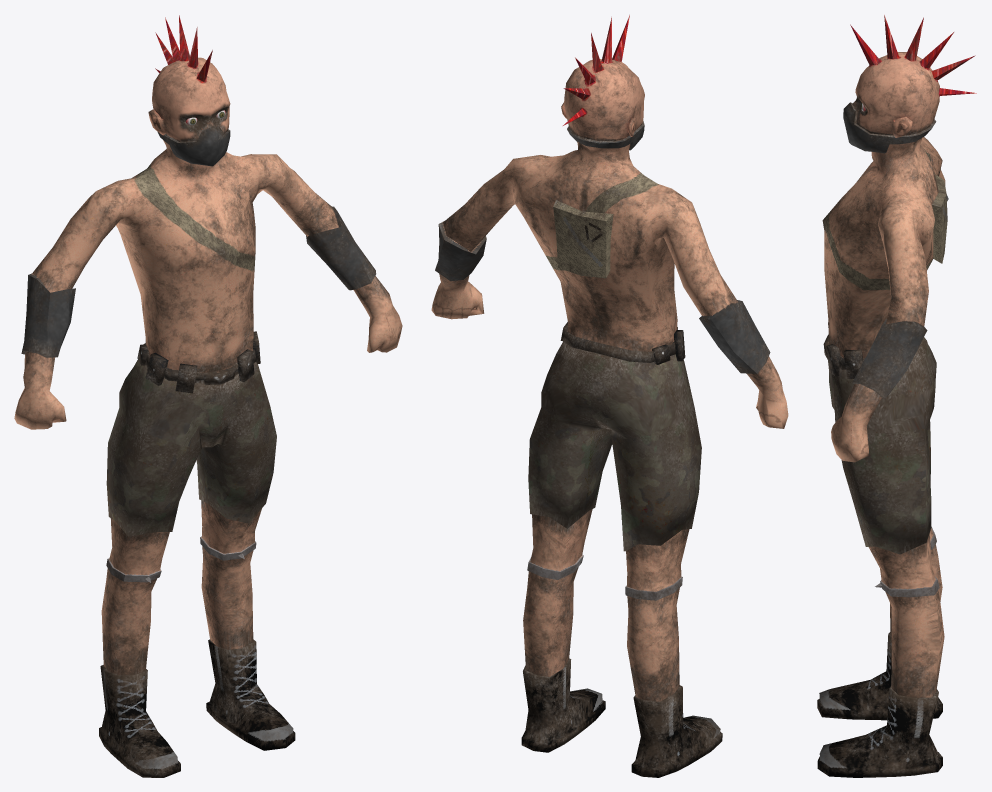
File: Anim_idle_npc2.0025.obj
3 views of the same model, side by side, from view 1: azimuth 30°, elevation 25°; view 2: azimuth 150°, elevation 25°; view 3: azimuth 270°, elevation 25° (orthographic). The views are drawn at different scales.
Visible parts, largest first — view 1: polySurface1; view 2: polySurface1; view 3: polySurface1.
Boxes of the visible parts, x1,y1,x2,y2 form: polySurface1: (14, 15, 402, 777); polySurface1: (431, 15, 788, 777); polySurface1: (817, 15, 976, 777).
Size of the model in its own units: 5.49 by 10.2 by 2.04.
Materials: 2 (2 with a texture image).
